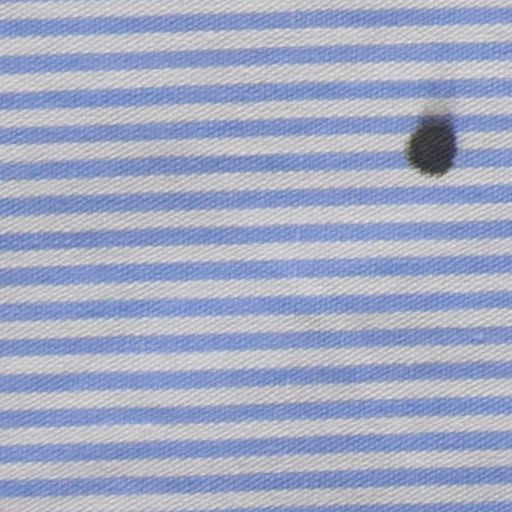defect: (409, 121, 457, 171)
